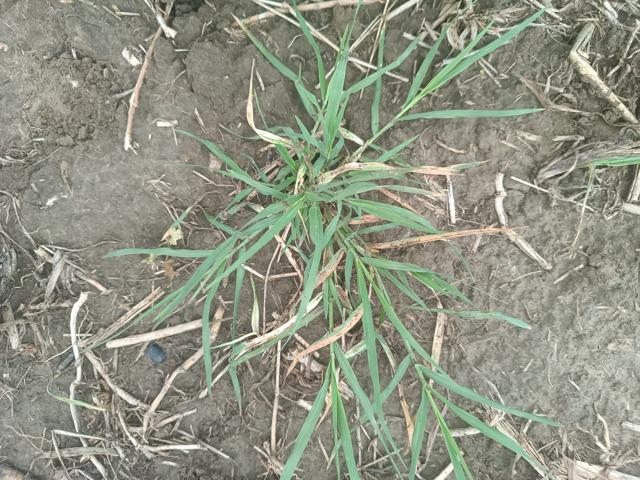bad weed: (199, 19, 517, 459)
